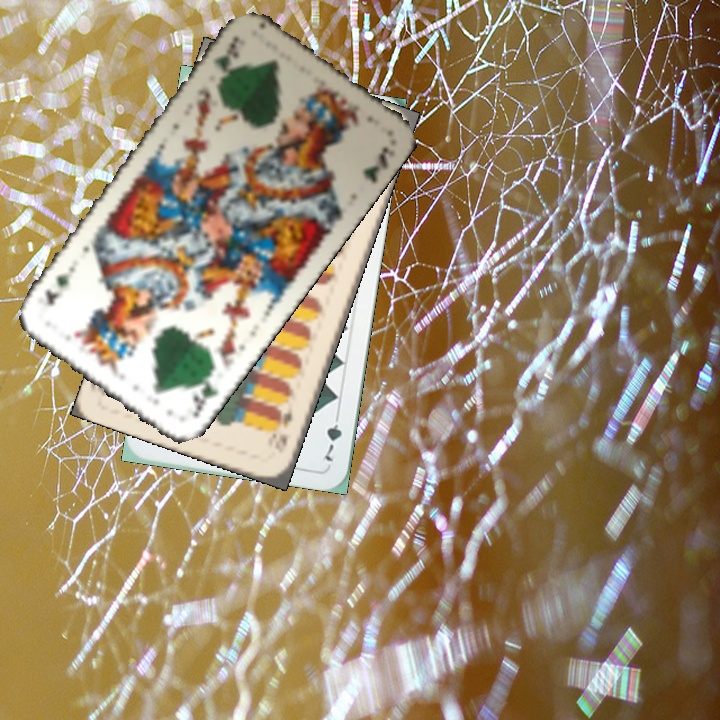E10: (274, 399, 295, 449)
G7: (320, 407, 345, 464)
GK: (209, 31, 249, 83), (188, 366, 222, 421)
